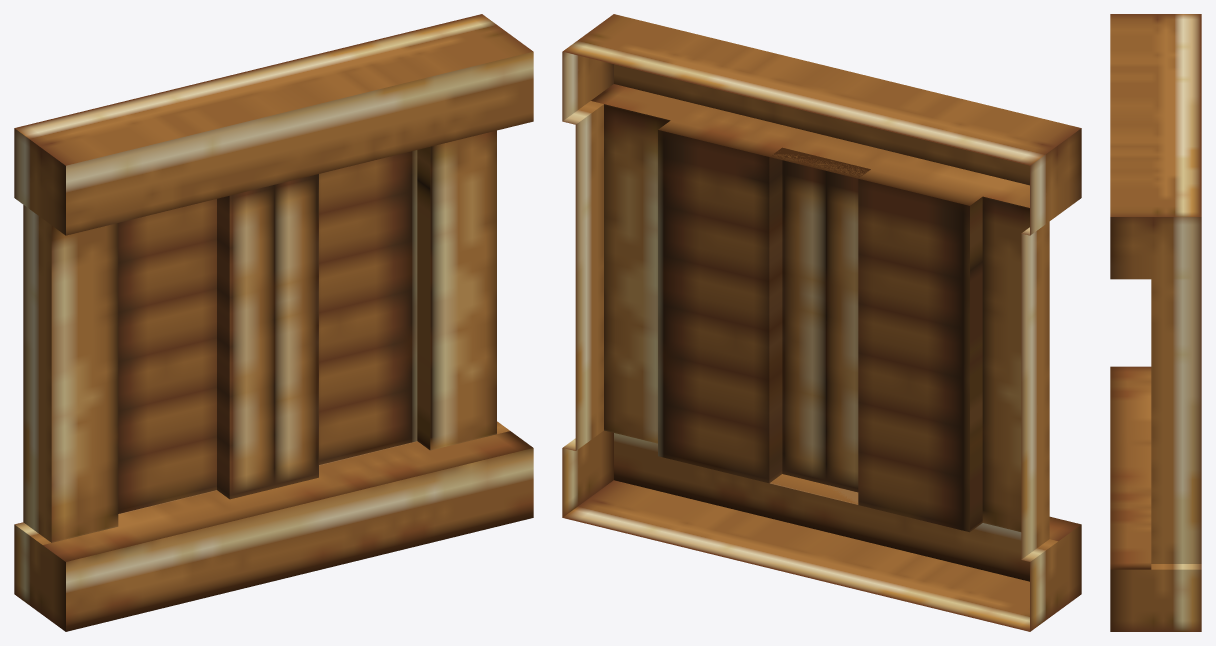
The model's file is Poly_Window_04.obj.
3 renders of one model, left to right at view 1: azimuth 30°, elevation 25°; view 2: azimuth 150°, elevation 25°; view 3: azimuth 270°, elevation 25°, orthographic. The views are drawn at different scales.
Parts seen in each view (by area): view 1: Cube.001_Cube; view 2: Cube.001_Cube; view 3: Cube.001_Cube.
Part boxes in pixels (x1,y1,x2,y2): Cube.001_Cube: (14,14,533,631); Cube.001_Cube: (562,14,1081,631); Cube.001_Cube: (1110,14,1201,631).
Size of the model in its own units: 1.05 by 1 by 0.2.
Materials: 1 (1 with a texture image).
